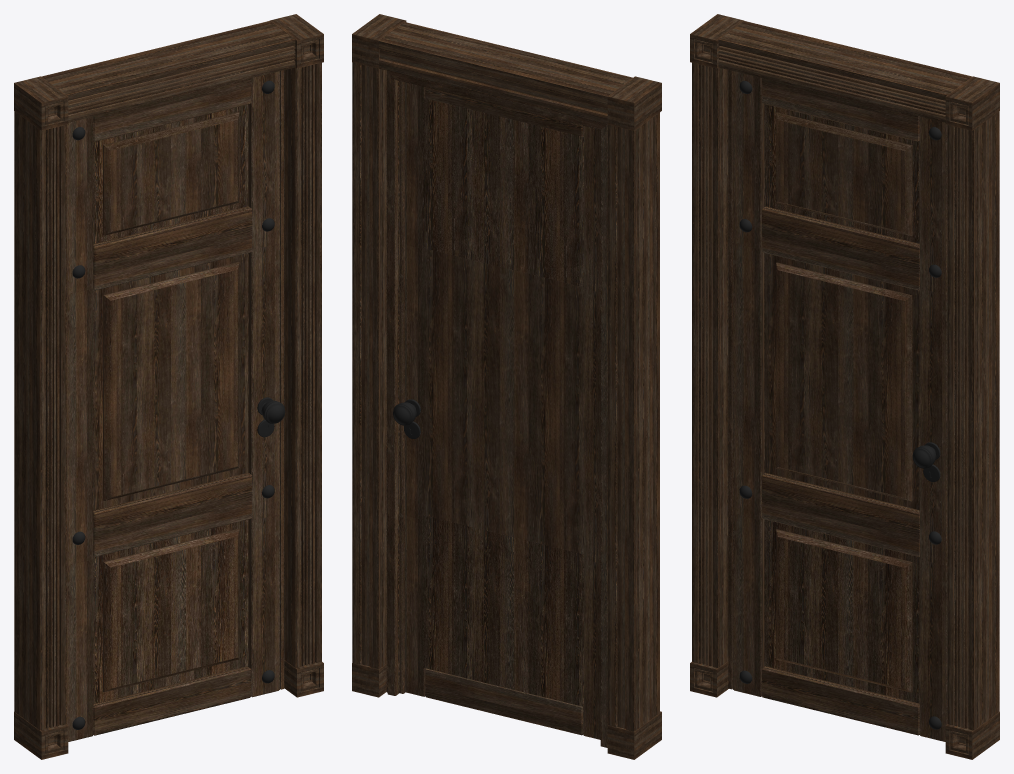
The model's file is old door10.FBX.
The picture shows the model from 3 angles, left to right: view 1: azimuth 30°, elevation 25°; view 2: azimuth 150°, elevation 25°; view 3: azimuth 330°, elevation 25°; orthographic projection.
Visible parts, largest first — view 1: Door10, old door10; view 2: Door10, old door10; view 3: Door10, old door10.
Part boxes in pixels (bbox=[...]): Door10: bbox=[66, 70, 285, 741]; old door10: bbox=[14, 14, 323, 759]; Door10: bbox=[386, 70, 607, 747]; old door10: bbox=[352, 14, 661, 759]; Door10: bbox=[728, 70, 947, 741]; old door10: bbox=[690, 14, 999, 759].
Size of the model in its own units: 987 by 208 by 2195.
